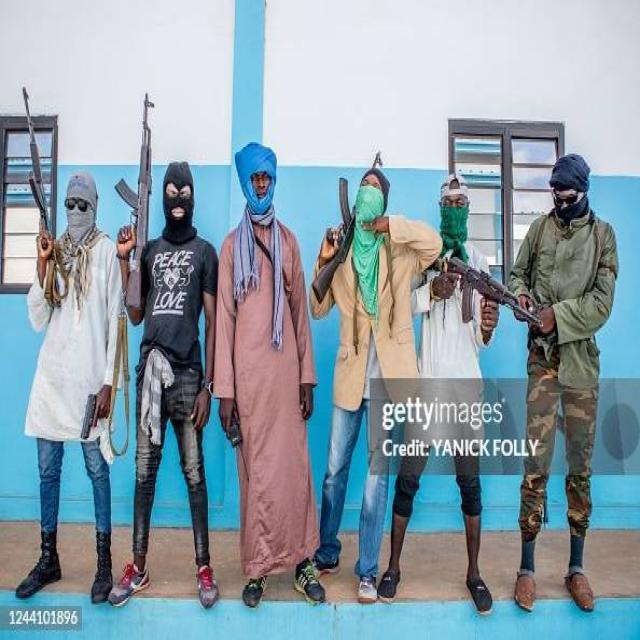Militant: (199, 111, 340, 633), (499, 102, 626, 625), (289, 108, 417, 602), (396, 152, 520, 640), (118, 138, 234, 619), (31, 164, 128, 625)
